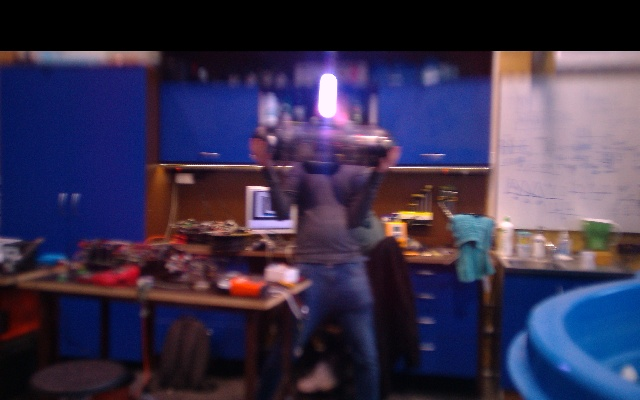white: (318, 72, 337, 120)
